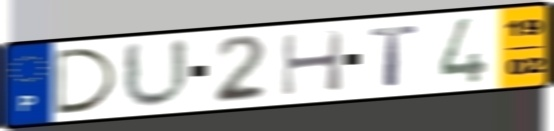2: (210, 32, 273, 105)
4: (435, 15, 493, 87)
D: (52, 46, 121, 117)
H: (278, 27, 348, 98)
T: (366, 22, 422, 89)
U: (119, 35, 195, 112)
